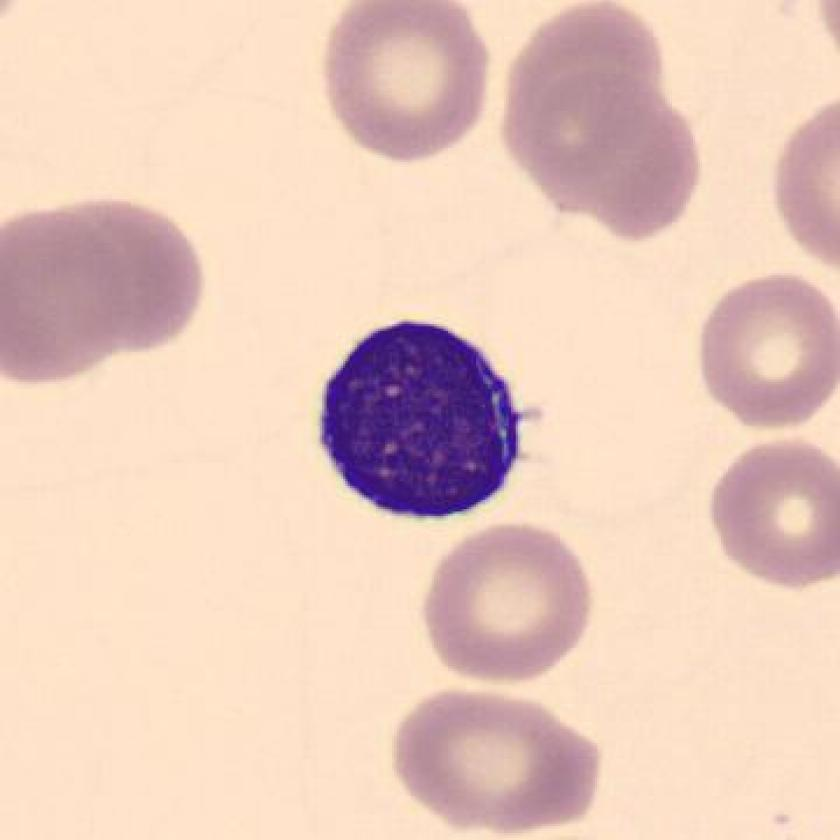lymphocyte: (300, 307, 535, 534)
